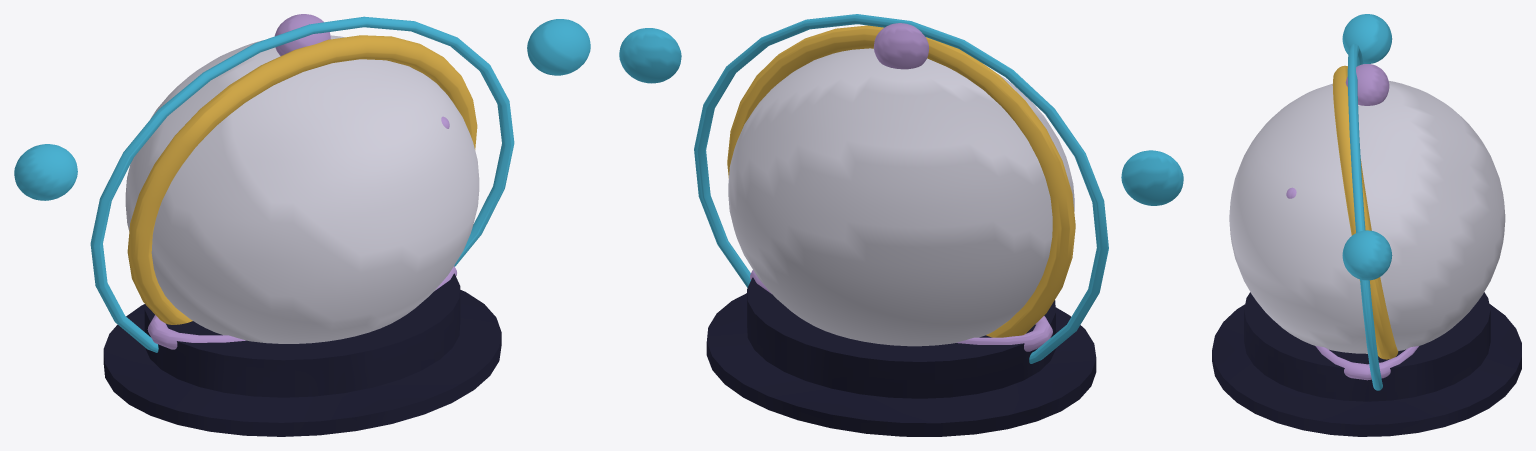
The model's file is 0035_天文图鉴_水星.glb.
3 renders of one model, left to right at view 1: azimuth 30°, elevation 25°; view 2: azimuth 150°, elevation 25°; view 3: azimuth 270°, elevation 25°, orthographic. The views are drawn at different scales.
Parts seen in each view (by area): view 1: card_0035; view 2: card_0035; view 3: card_0035.
Boxes of the visible parts, box(x1,y1,x2,y2) form: card_0035: box(14, 14, 590, 436); card_0035: box(619, 14, 1183, 436); card_0035: box(1212, 14, 1521, 436).
Bounding box in the file's own units: 1.7 × 1 × 0.9226.
